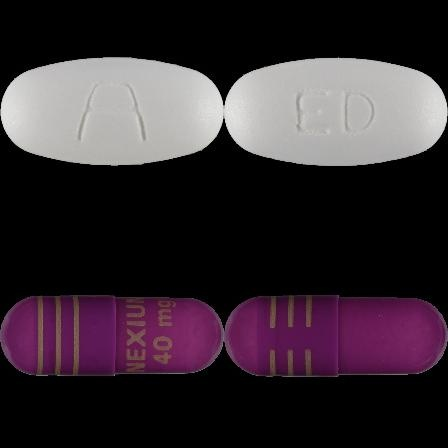49349-733: (0, 0, 224, 224)
